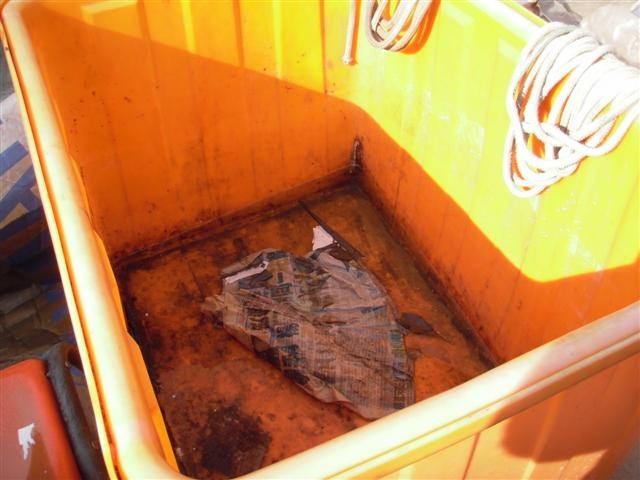box: (1, 1, 640, 480)
